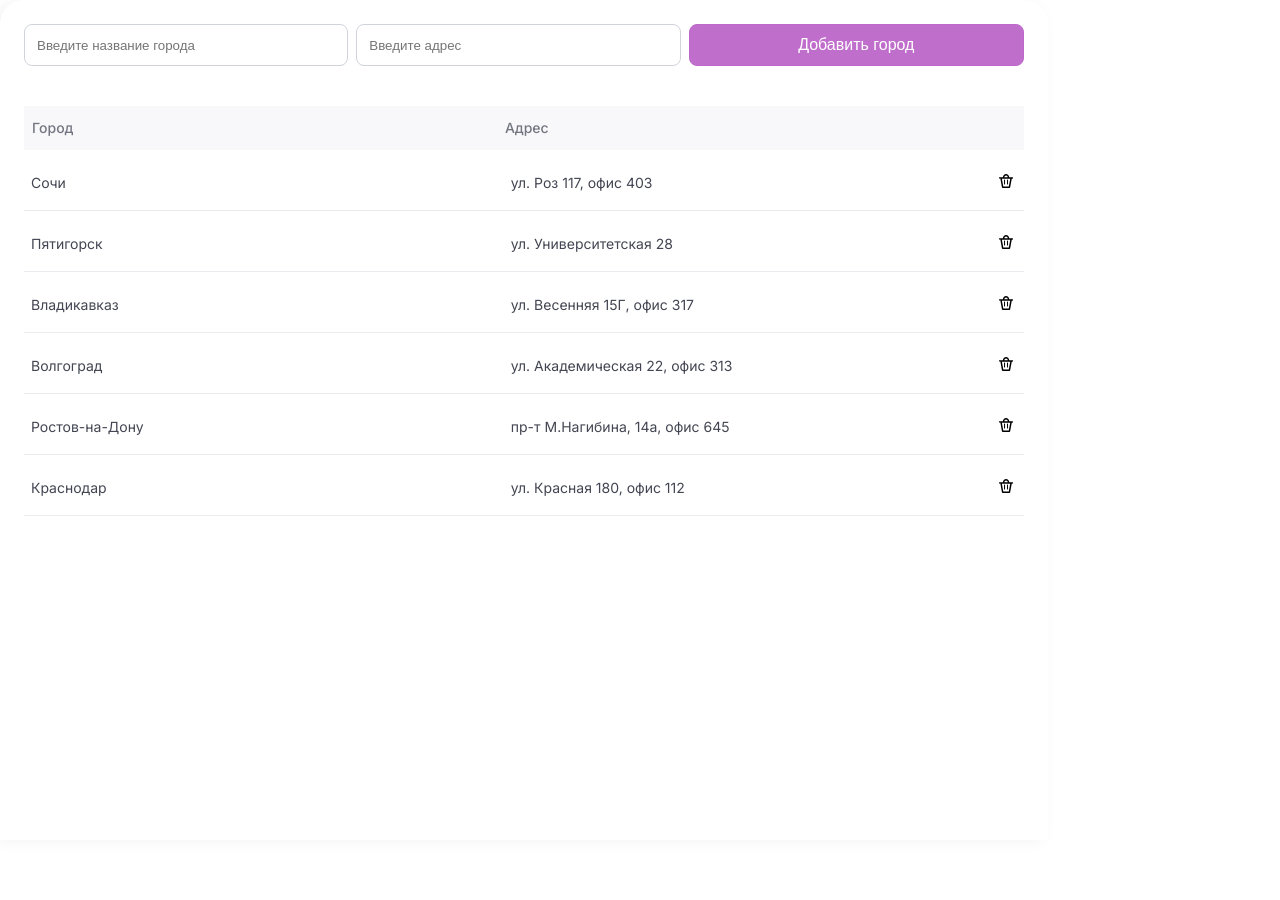
Test case: Clients page › click delete city icon
This screenshot has width=1280, height=900.
Click the icon with test id "delIcon" in the row of "Сочи": (1006, 181) [999,174,1013,188]
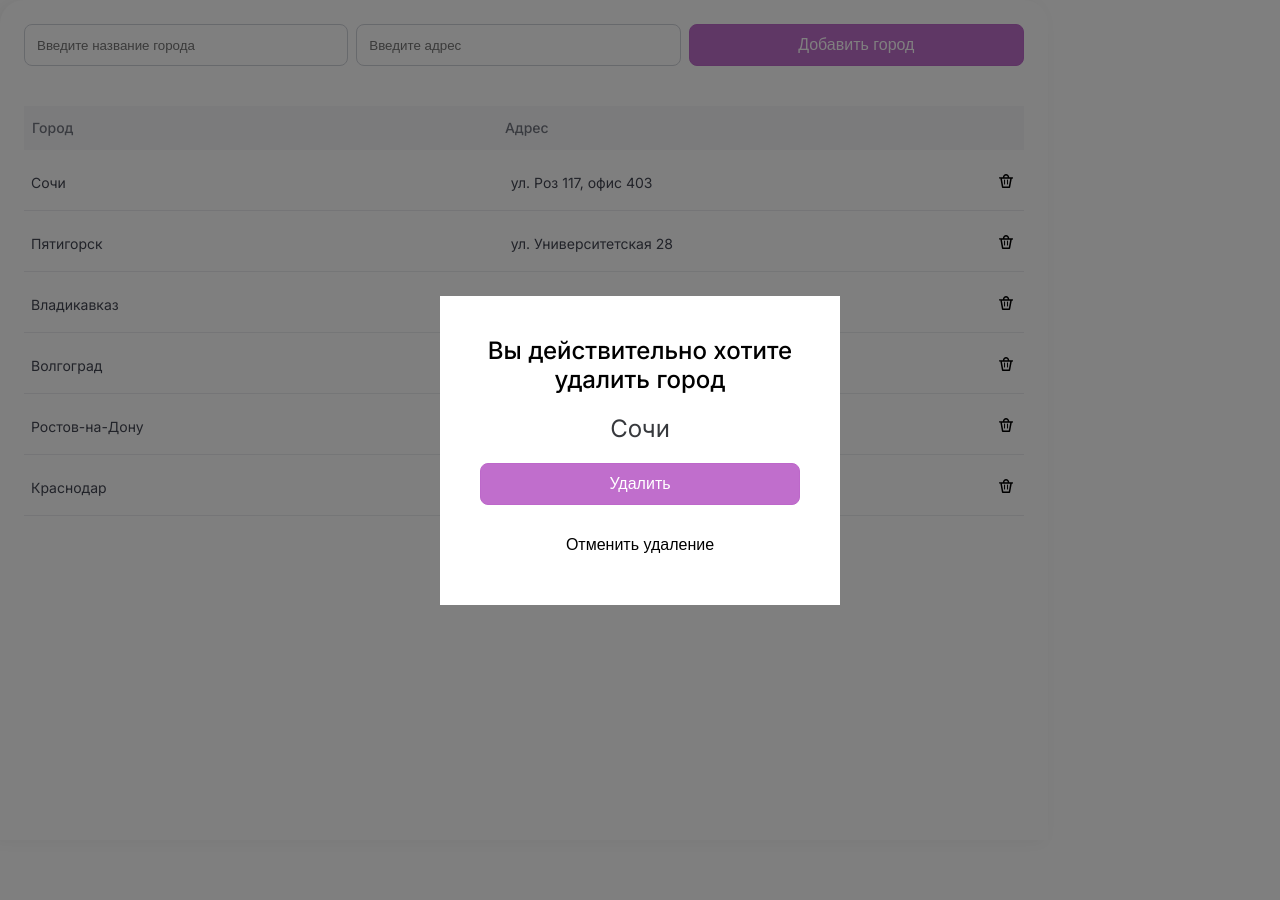
Result: the element with test id "deleteModal" is shown at [440,296,840,604]
